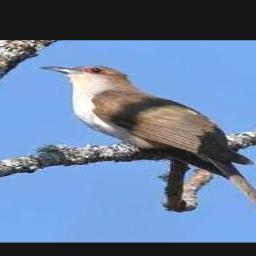Cuckoo: (40, 65, 256, 228)
